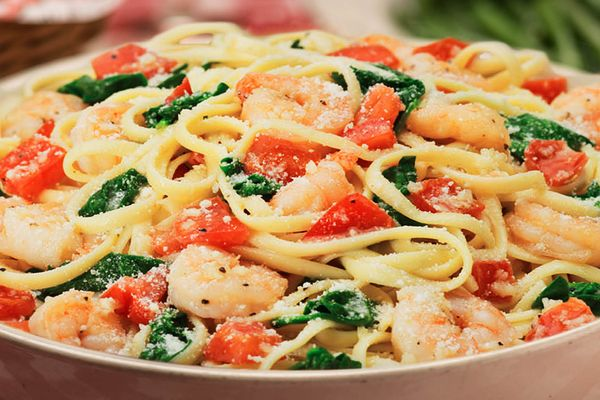curry: (387, 0, 600, 73), (505, 112, 595, 163), (142, 82, 229, 129), (138, 305, 206, 363), (74, 252, 166, 293), (77, 168, 151, 216), (304, 287, 380, 328), (57, 72, 148, 104), (290, 346, 362, 370)
sushi: (21, 34, 598, 397)
